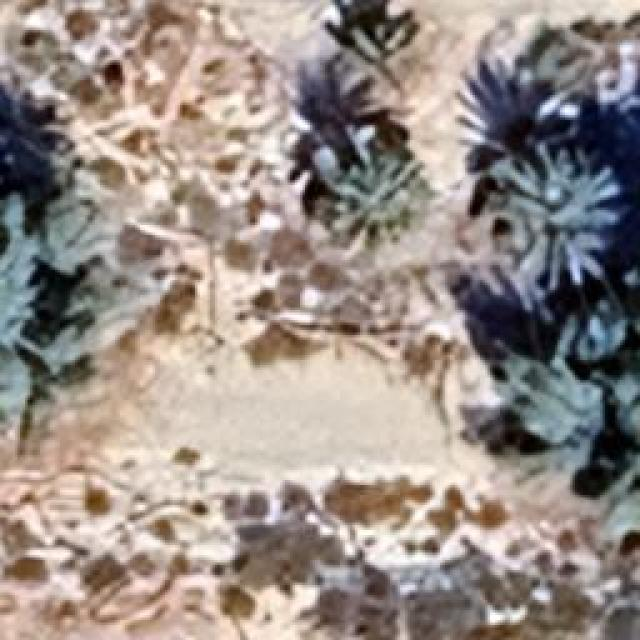PalmTree: (492, 142, 626, 296), (315, 148, 435, 242), (340, 23, 425, 96), (0, 86, 60, 188)
